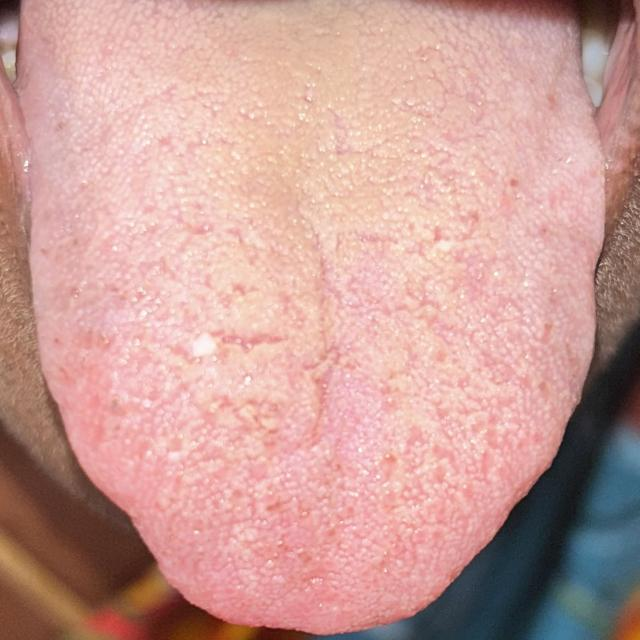processing_area: (17, 0, 600, 630)
